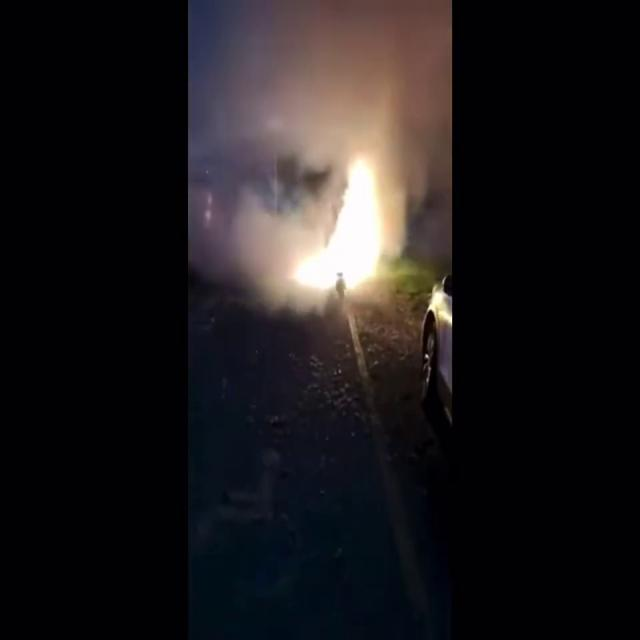Fire: (292, 146, 397, 298)
Smoke: (192, 0, 452, 174)
